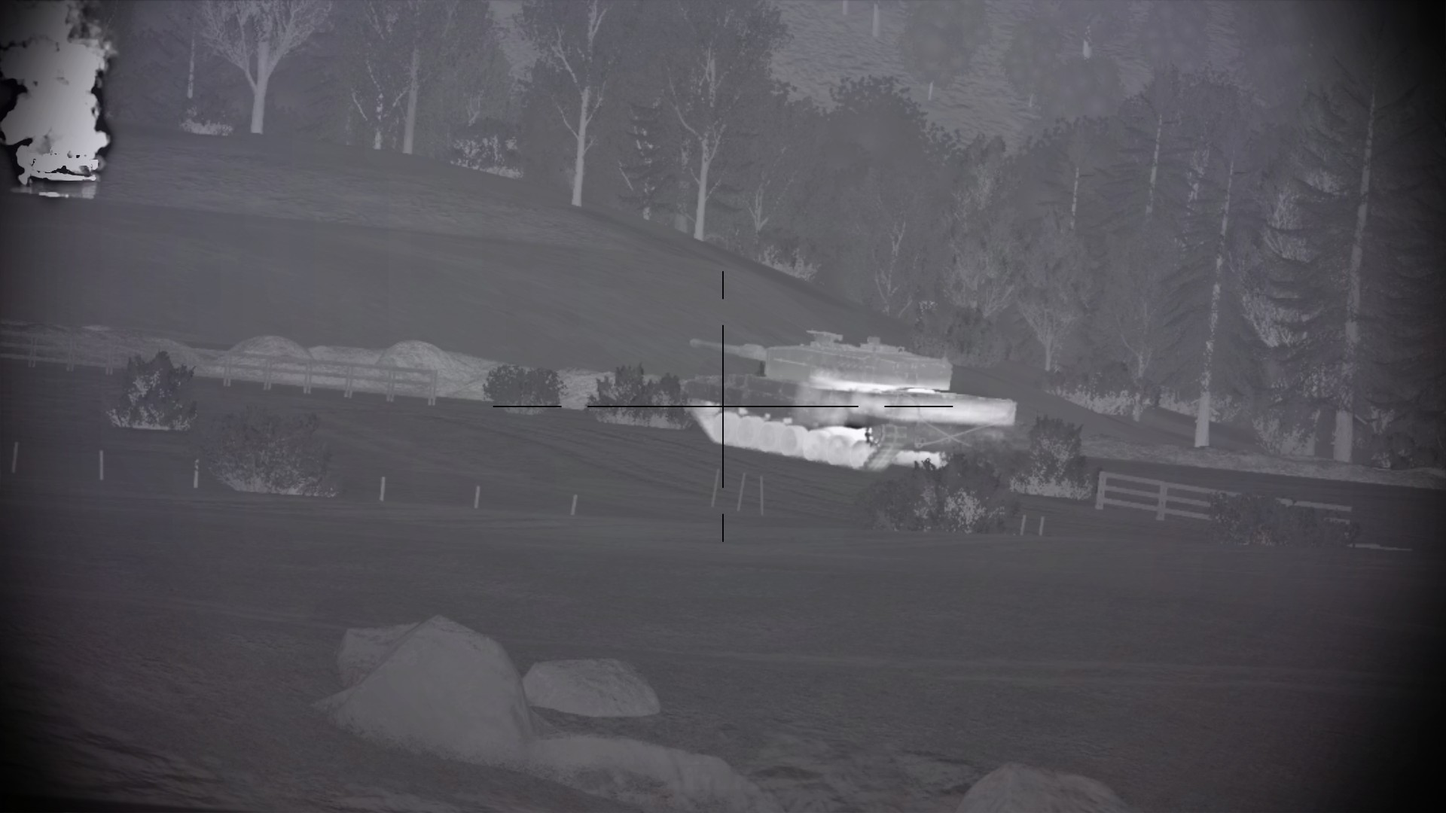leopard2: (679, 328, 1017, 472)
